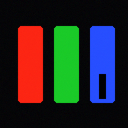4 line_v: (99, 74, 105, 98)
